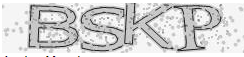B: (27, 3, 80, 52)
K: (124, 2, 175, 55)
P: (173, 3, 224, 54)
S: (79, 4, 126, 55)
